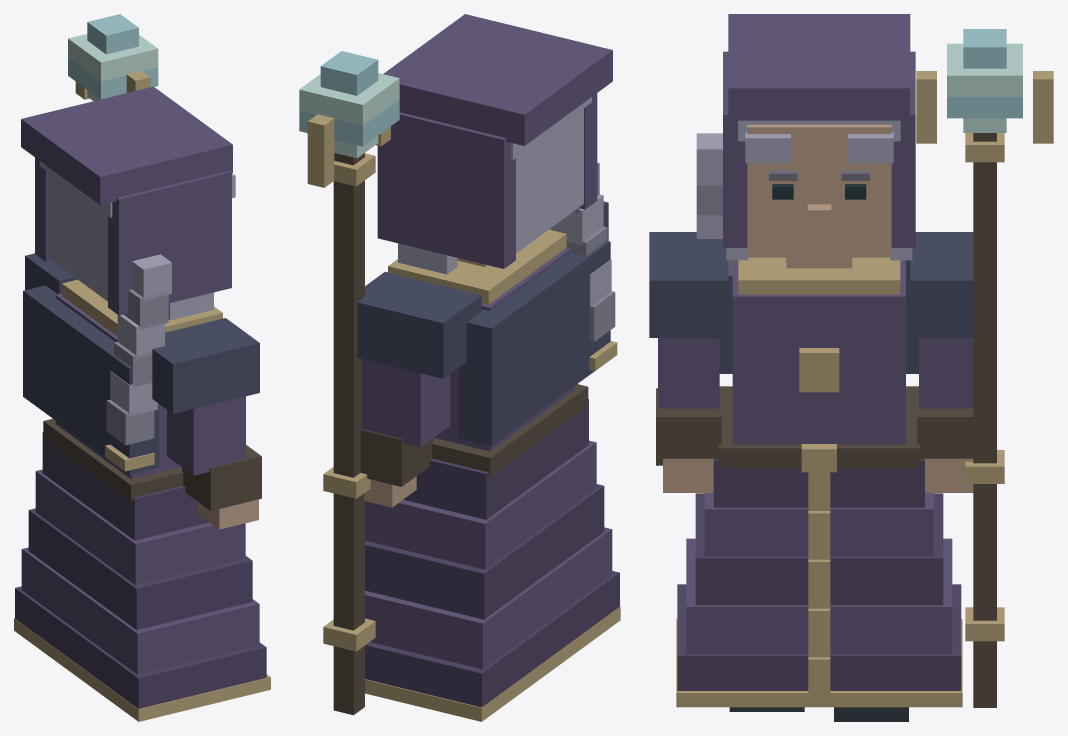
Rendered from enemy-humanoid-staff-female.glb.
The picture shows the model from 3 angles, left to right: view 1: azimuth 30°, elevation 25°; view 2: azimuth 150°, elevation 25°; view 3: azimuth 270°, elevation 25°; orthographic projection. The views are drawn at different scales.
Visible parts, largest first — view 1: Robe, Hood, Mantle, Shoulders, Braid, Hair, StaffCrystal, Sleeves, RobeHem, Belt, Bracers, Collar (+5 smaller); view 2: Robe, Hood, Mantle, StaffShaft, Shoulders, StaffCrystal, Hair, Sleeves, Collar, Belt, RobeHem, Braid (+6 smaller); view 3: Robe, Hood, Torso, Head, Shoulders, StaffShaft, Sleeves, StaffCrystal, Bracers, Belt, Collar, RobeSeam (+14 smaller).
Boxes of the visible parts, bbox=[...] form: Robe: bbox=[15, 432, 266, 708]; Hood: bbox=[21, 86, 232, 315]; Mantle: bbox=[23, 285, 159, 474]; Shoulders: bbox=[25, 253, 259, 413]; Braid: bbox=[106, 254, 171, 445]; Hair: bbox=[39, 161, 112, 301]; StaffCrystal: bbox=[68, 14, 158, 101]; Sleeves: bbox=[167, 396, 245, 475]; RobeHem: bbox=[14, 618, 270, 721]; Belt: bbox=[43, 418, 183, 502]; Bracers: bbox=[182, 445, 261, 510]; Collar: bbox=[62, 279, 222, 336]; Robe: bbox=[365, 399, 619, 707]; Hood: bbox=[377, 14, 612, 268]; Mantle: bbox=[458, 241, 610, 446]; StaffShaft: bbox=[333, 153, 364, 715]; Shoulders: bbox=[357, 201, 608, 378]; StaffCrystal: bbox=[299, 51, 399, 158]; Hair: bbox=[511, 97, 591, 253]; Sleeves: bbox=[362, 359, 450, 447]; Collar: bbox=[388, 229, 566, 304]; Belt: bbox=[432, 384, 588, 477]; RobeHem: bbox=[365, 606, 620, 721]; Braid: bbox=[550, 162, 615, 341]; Robe: bbox=[677, 459, 961, 690]; Hood: bbox=[723, 14, 915, 247]; Torso: bbox=[732, 260, 905, 444]; Head: bbox=[747, 124, 891, 257]; Shoulders: bbox=[649, 232, 973, 337]; StaffShaft: bbox=[973, 133, 996, 707]; Sleeves: bbox=[658, 338, 973, 408]; StaffCrystal: bbox=[947, 29, 1022, 132]; Bracers: bbox=[656, 388, 973, 465]; Belt: bbox=[718, 386, 919, 468]; Collar: bbox=[738, 257, 900, 294]; RobeSeam: bbox=[808, 472, 830, 706].
Size of the model in its own units: 2.58 by 9.44 by 5.12.
